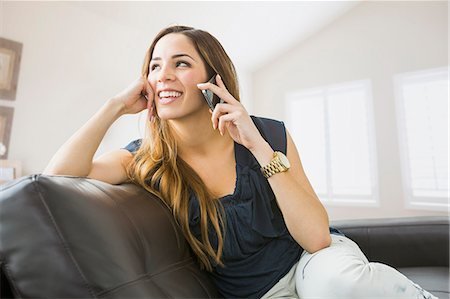phone: (198, 74, 246, 137)
talk: (146, 51, 259, 152)
